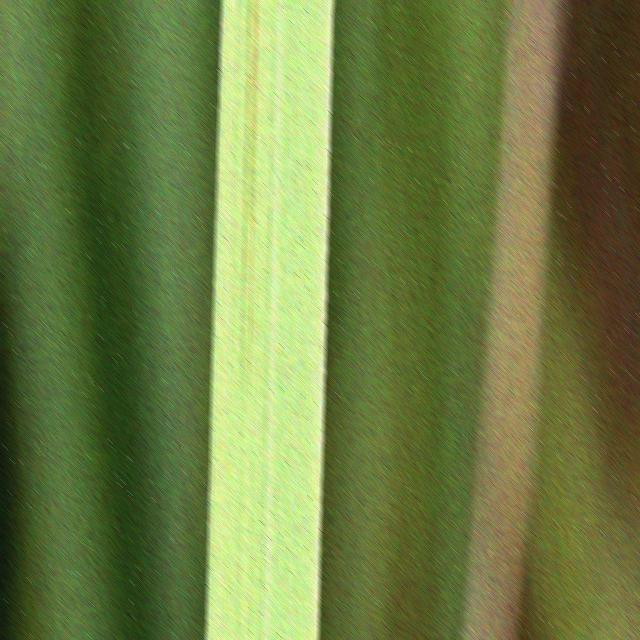BLS: (249, 0, 259, 412), (244, 0, 252, 263)
